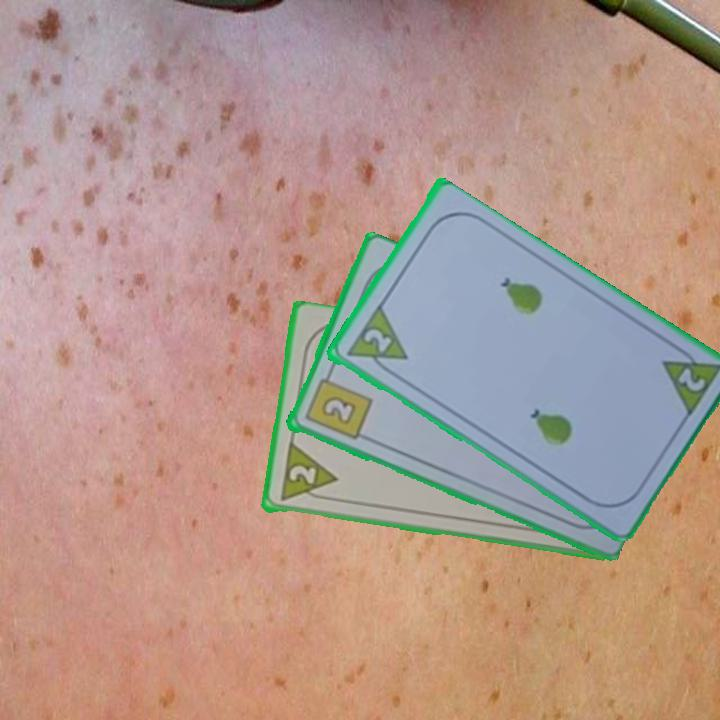2b: (300, 367, 374, 443)
2p: (341, 303, 410, 380), (276, 442, 339, 505), (673, 363, 708, 395)
